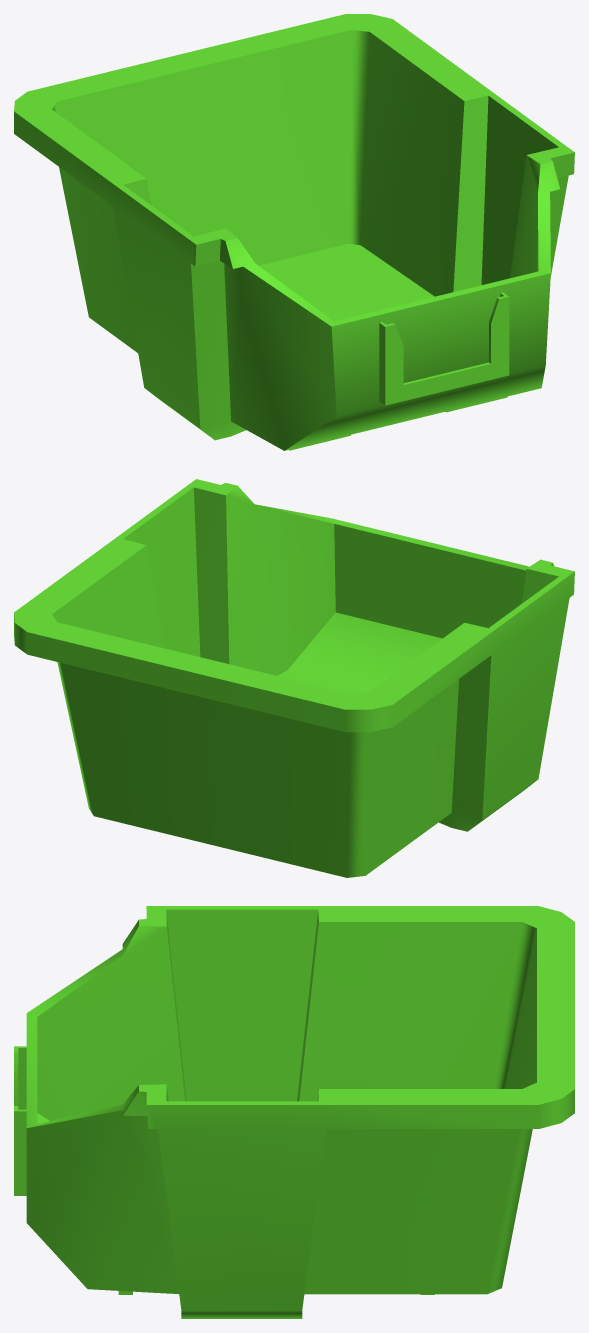
The model's file is CratePlastic_White_04.FBX.
3 views of the same model, one above another, from view 1: azimuth 30°, elevation 25°; view 2: azimuth 150°, elevation 25°; view 3: azimuth 270°, elevation 25° (orthographic). The views are drawn at different scales.
Parts seen in each view (by area): view 1: SM_CratePlastic_B_03_LOD0; view 2: SM_CratePlastic_B_03_LOD0; view 3: SM_CratePlastic_B_03_LOD0.
Boxes of the visible parts, x1=… form: SM_CratePlastic_B_03_LOD0: x1=14, y1=14, x2=574, y2=450; SM_CratePlastic_B_03_LOD0: x1=14, y1=479, x2=574, y2=877; SM_CratePlastic_B_03_LOD0: x1=14, y1=906, x2=574, y2=1318.
Size of the model in its own units: 25.01 by 13.63 by 29.82.
